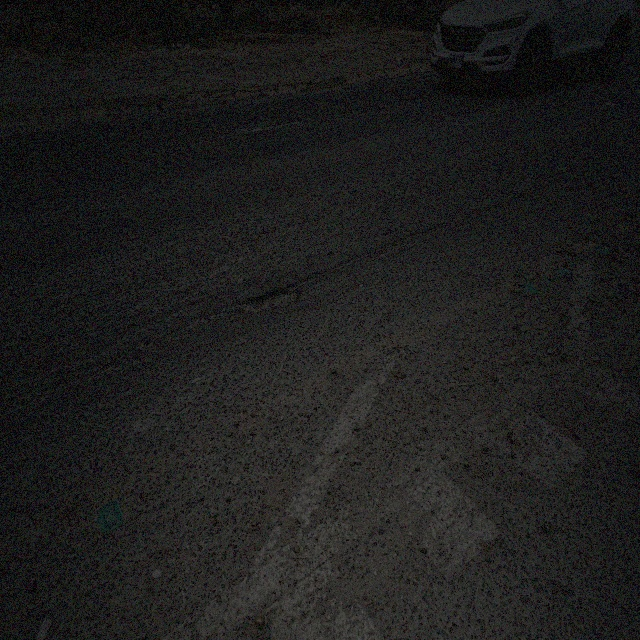pothole: (240, 279, 300, 316)
